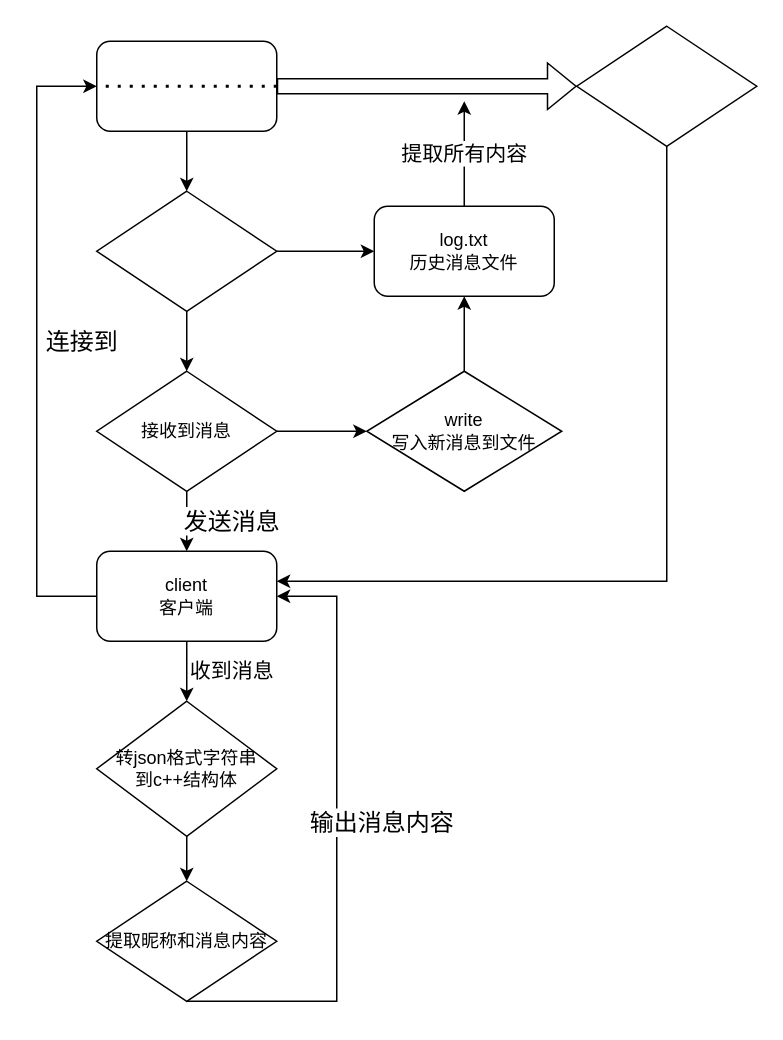
The diagram is 783 pixels wide and 1040 high, and some of its shapes have lost their labels. Each missing label, with the box of its shape:
open(log.txt) 打开历史消息文件: (95, 190, 277, 311)
server 服务端: (95, 40, 277, 131)
逐条发送所有 历史消息: (575, 25, 757, 146)
